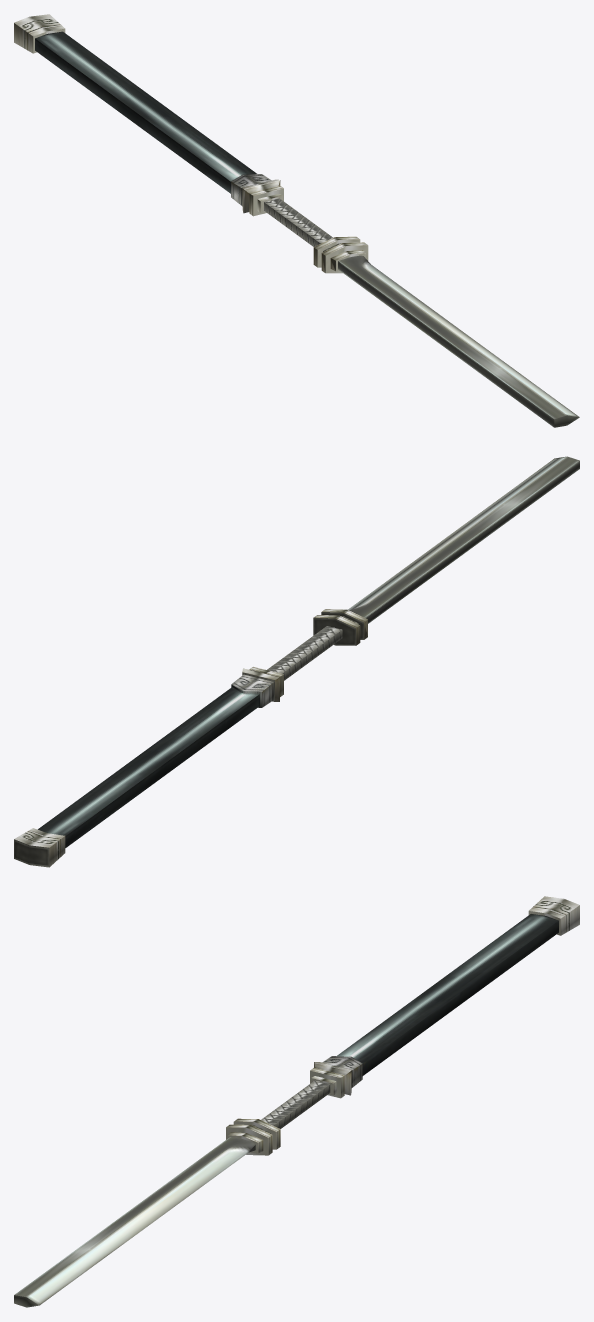
3 views of the same model, one above another, from view 1: azimuth 30°, elevation 25°; view 2: azimuth 150°, elevation 25°; view 3: azimuth 330°, elevation 25° (orthographic).
Parts seen in each view (by area): view 1: W902a; view 2: W902a; view 3: W902a.
Part boxes in pixels (x1,y1,x2,y2): W902a: (14,14,579,427); W902a: (14,456,579,867); W902a: (14,896,579,1307).
Bounding box in the file's own units: 2.27 × 1.37 × 49.34.
1 material, 1 textured.
